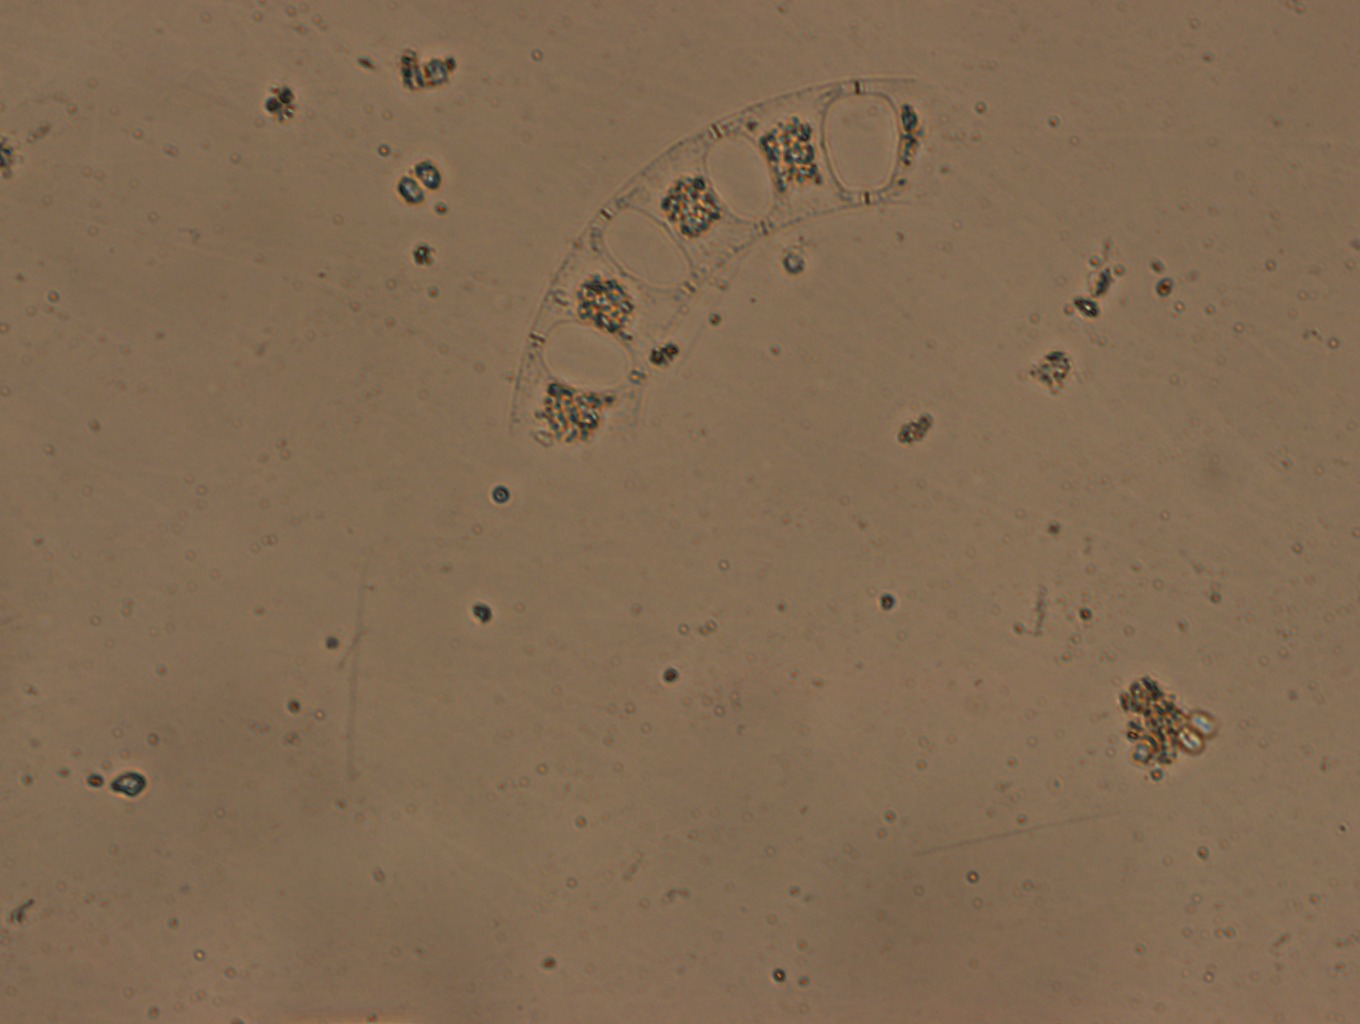eucampia: (506, 79, 927, 437)
